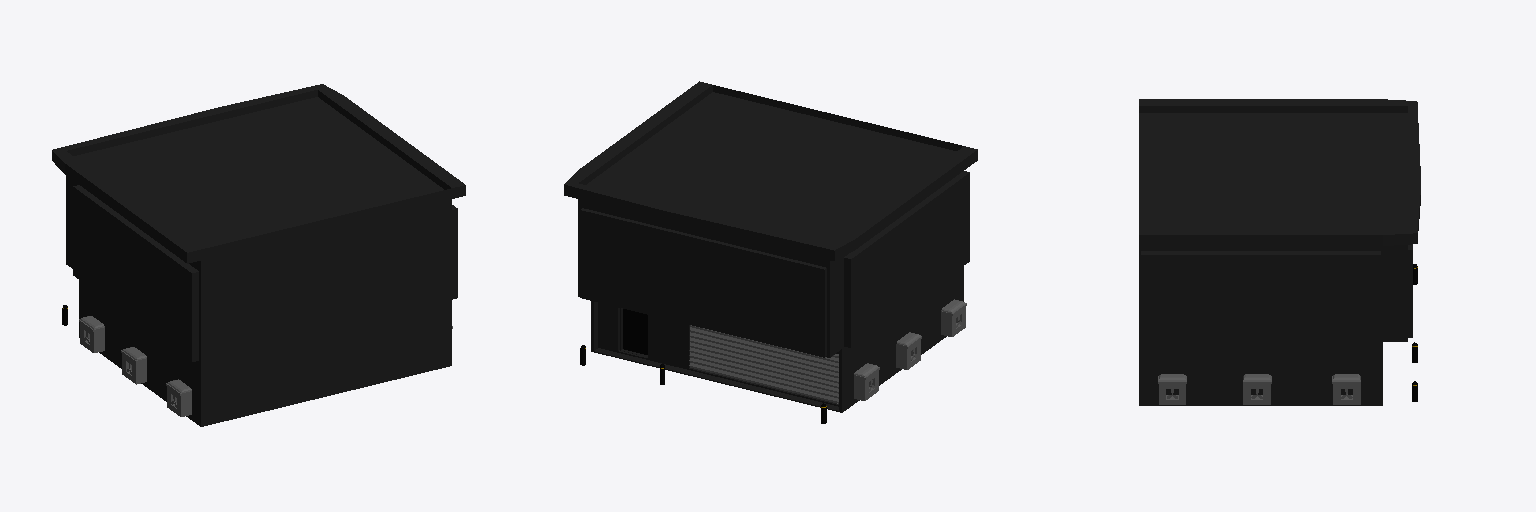
Rendered from garage.obj.
3 renders of one model, left to right at view 1: azimuth 30°, elevation 25°; view 2: azimuth 150°, elevation 25°; view 3: azimuth 270°, elevation 25°, orthographic.
Parts seen in each view (by area): view 1: Cube.047_Cube.074, AC_Unit.003_Cube.077, AC_Unit.002_Cube.075, AC_Unit.004_Cube.078; view 2: Cube.047_Cube.074, Plane.024_Plane.049, AC_Unit.004_Cube.078, AC_Unit.002_Cube.075, AC_Unit.003_Cube.077; view 3: Cube.047_Cube.074, AC_Unit.005_Cube.079, AC_Unit.006_Cube.080, AC_Unit.007_Cube.081.
Part boxes in pixels (bbox=[...]): Cube.047_Cube.074: bbox=[52, 84, 465, 426]; AC_Unit.003_Cube.077: bbox=[121, 347, 146, 384]; AC_Unit.002_Cube.075: bbox=[166, 379, 191, 416]; AC_Unit.004_Cube.078: bbox=[79, 316, 104, 352]; Cube.047_Cube.074: bbox=[564, 81, 977, 412]; Plane.024_Plane.049: bbox=[689, 325, 838, 403]; AC_Unit.004_Cube.078: bbox=[854, 363, 879, 400]; AC_Unit.002_Cube.075: bbox=[941, 299, 966, 336]; AC_Unit.003_Cube.077: bbox=[896, 332, 921, 369]; Cube.047_Cube.074: bbox=[1139, 99, 1420, 405]; AC_Unit.005_Cube.079: bbox=[1332, 374, 1360, 404]; AC_Unit.006_Cube.080: bbox=[1243, 374, 1271, 404]; AC_Unit.007_Cube.081: bbox=[1158, 374, 1186, 404].
Bounding box in the file's own units: 17.74 × 10.8 × 15.58.